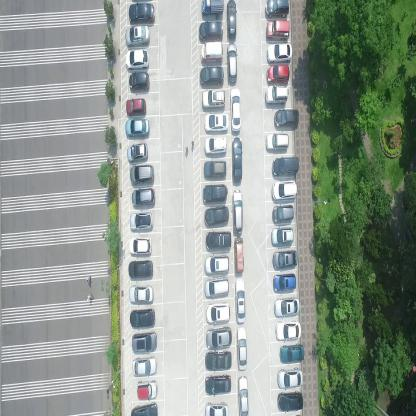car: (272, 154, 299, 178), (204, 373, 233, 395), (203, 350, 233, 371), (124, 48, 150, 72), (277, 390, 304, 413), (127, 3, 156, 24), (266, 41, 292, 64), (234, 278, 247, 324), (205, 302, 231, 325), (273, 296, 300, 318), (275, 320, 302, 342), (206, 326, 233, 348), (128, 308, 156, 329), (266, 18, 290, 42), (265, 63, 291, 85), (198, 19, 224, 41), (128, 283, 154, 305), (274, 109, 301, 130), (271, 180, 298, 201), (127, 258, 154, 279), (130, 356, 157, 377), (276, 367, 301, 389), (125, 25, 150, 47), (126, 118, 151, 140), (263, 0, 289, 21), (231, 136, 242, 184), (200, 66, 224, 88), (204, 134, 228, 156), (272, 250, 298, 270), (279, 344, 305, 364), (204, 112, 230, 132), (203, 183, 229, 203), (205, 230, 231, 250), (204, 254, 230, 274), (273, 272, 296, 294), (230, 88, 241, 134), (237, 326, 248, 372), (200, 42, 223, 64), (201, 88, 224, 110), (128, 70, 150, 93), (265, 86, 289, 107), (270, 226, 294, 247), (204, 206, 229, 226), (129, 164, 154, 184), (129, 212, 155, 231), (232, 190, 243, 234), (136, 380, 158, 402), (129, 235, 153, 255), (204, 278, 230, 296), (132, 332, 158, 350), (125, 96, 147, 117), (126, 141, 148, 162), (265, 133, 289, 152), (272, 205, 296, 224), (238, 374, 249, 415), (131, 188, 156, 206), (226, 0, 237, 40), (200, 0, 224, 18), (227, 42, 237, 84), (204, 159, 226, 178), (204, 400, 230, 416), (234, 236, 244, 274), (129, 404, 159, 415)
